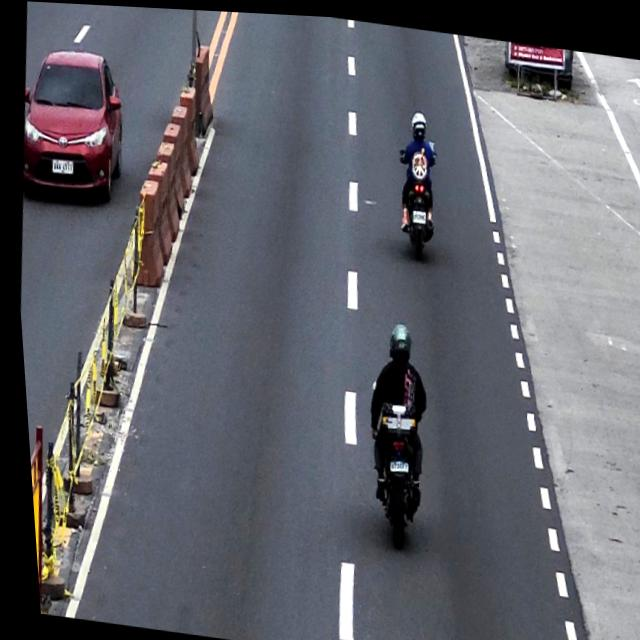License-Plate: (382, 454, 402, 469), (408, 206, 424, 220)
Motorcycle: (352, 374, 427, 550), (388, 140, 439, 260)
